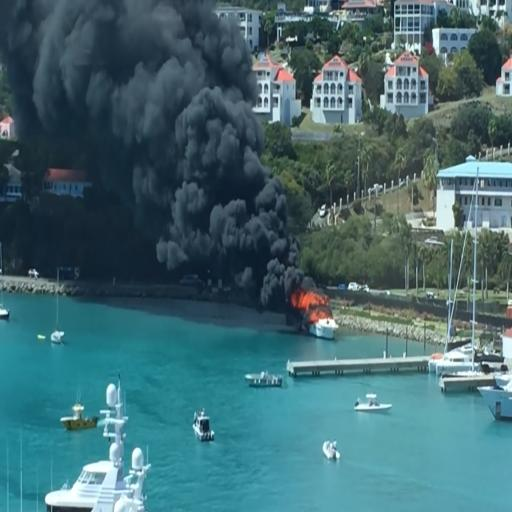smoke: (0, 4, 239, 142), (100, 3, 249, 219), (169, 87, 260, 262), (252, 172, 293, 306)
